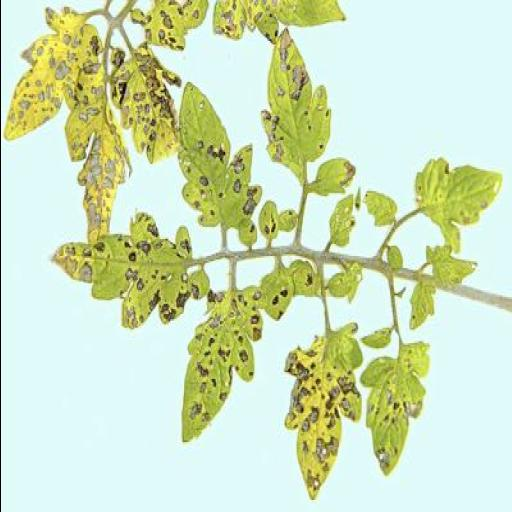Septoria: (0, 2, 136, 244), (46, 214, 214, 332), (259, 27, 357, 200), (174, 76, 272, 246), (280, 315, 364, 512), (178, 278, 269, 459), (356, 338, 432, 478), (106, 40, 184, 170), (413, 155, 504, 256), (210, 0, 354, 46), (133, 0, 211, 51), (259, 265, 297, 323)
